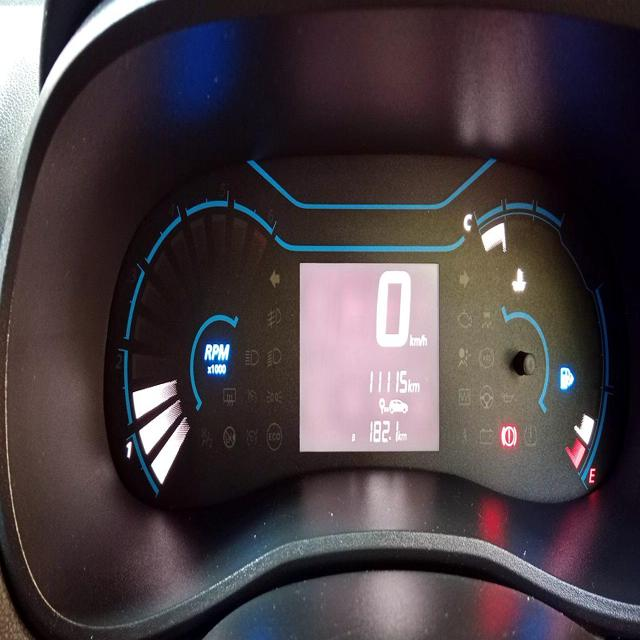odometer: (366, 365, 411, 399)
